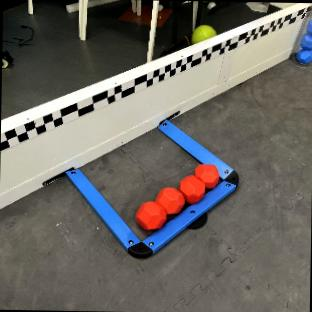Parking - Part: (66, 121, 237, 257)
V5_BLUE: (296, 19, 312, 63)
V5_RED: (136, 163, 218, 230)
